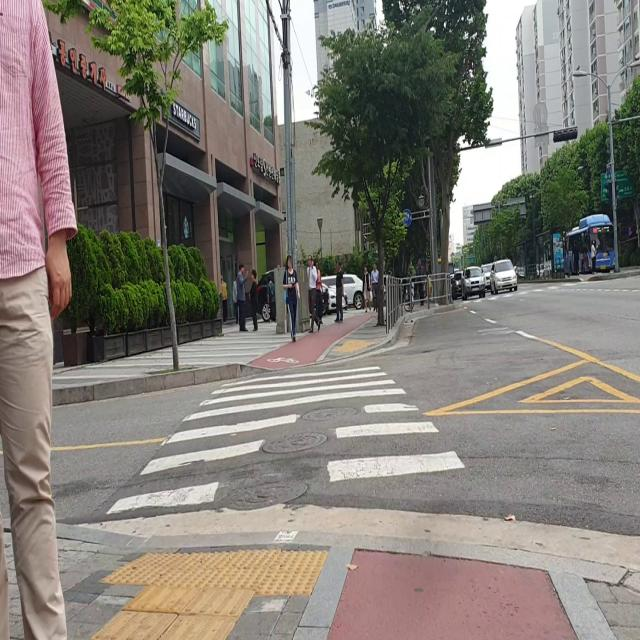횡단보도: (104, 364, 467, 520)
